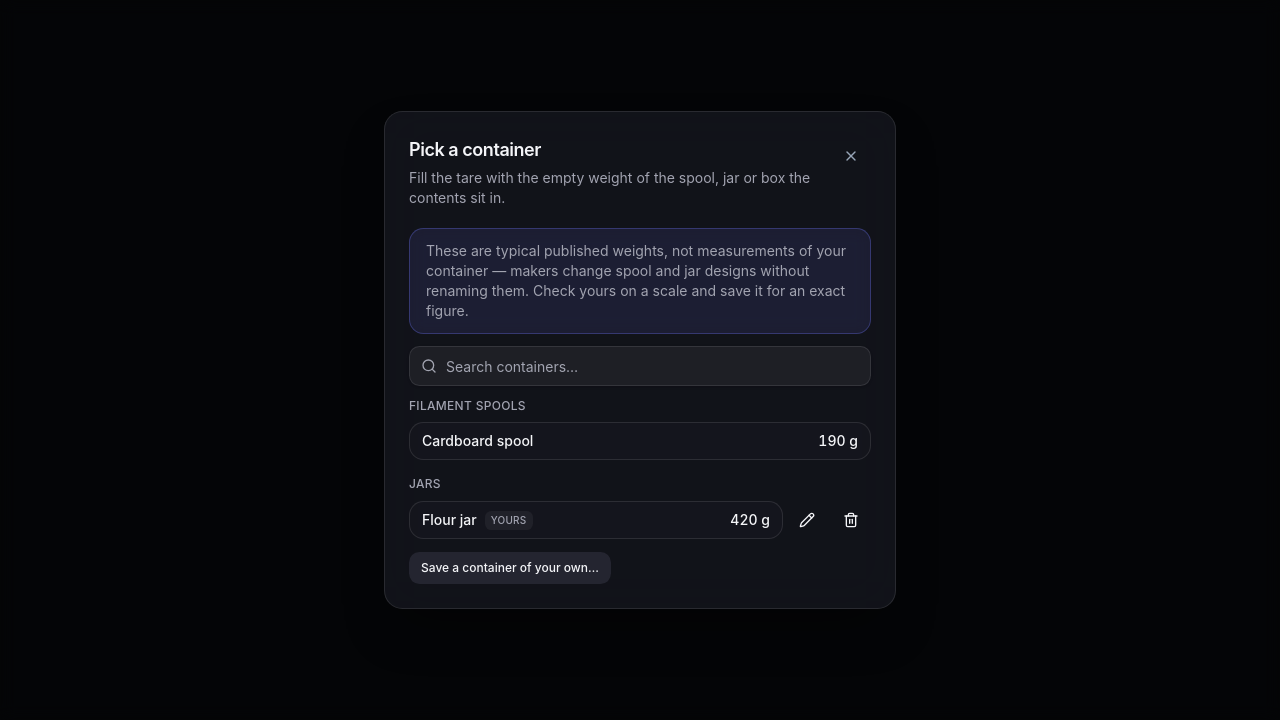
Test: TarePresetPicker — editing a saved container › refuses to save an edit that blanks the name
Click the button named "Edit Flour jar".
click(807, 520)  # box [787,500,827,540]
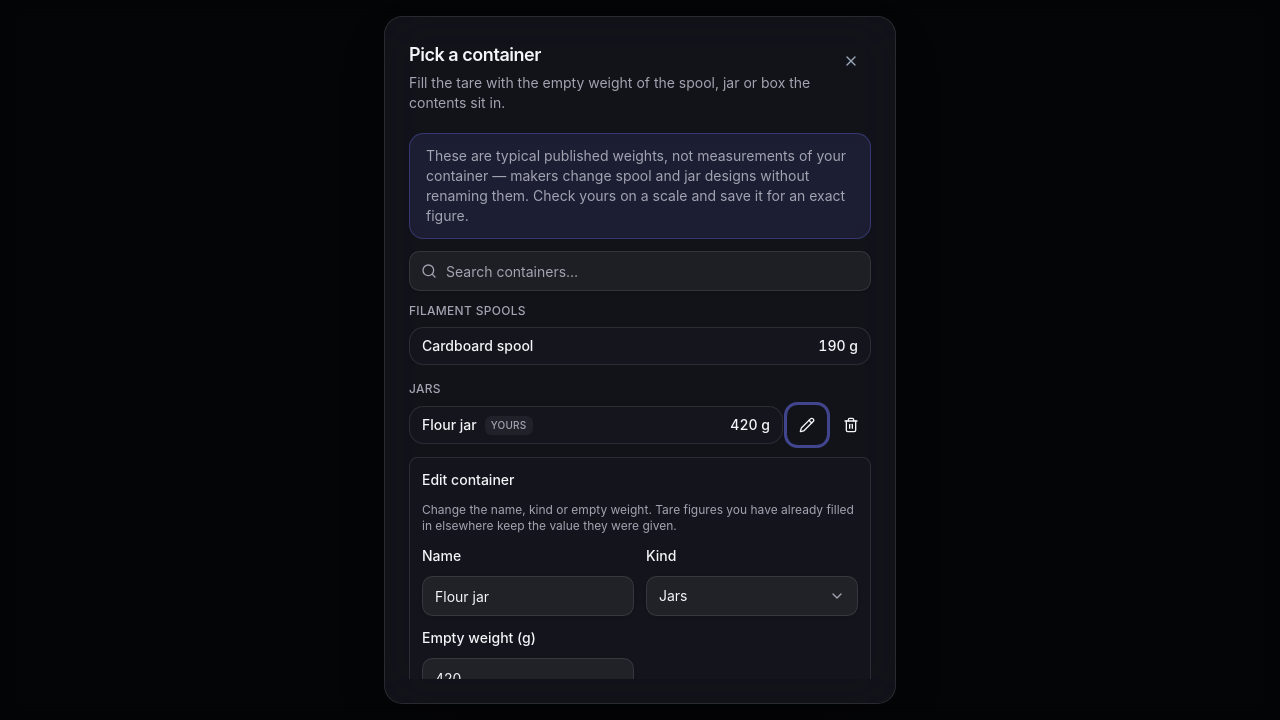
Clear the field with test id "tare-preset-name" at (528, 596), box [422,576,634,616]
(page scrolled)
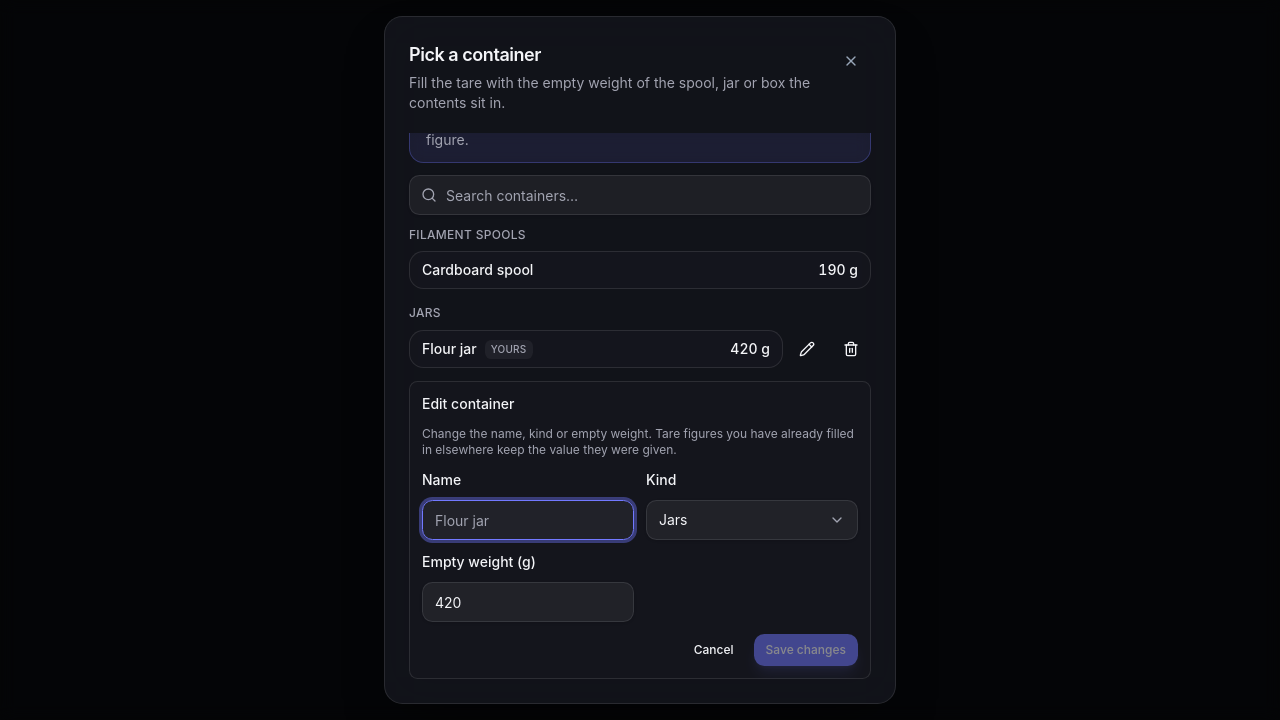
expect the button with test id "tare-preset-save" is disabled: met, box [754,634,858,666]
